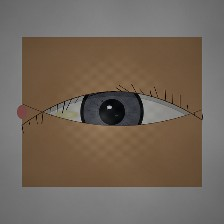pinguecula_lesion: (43, 96, 90, 133)
